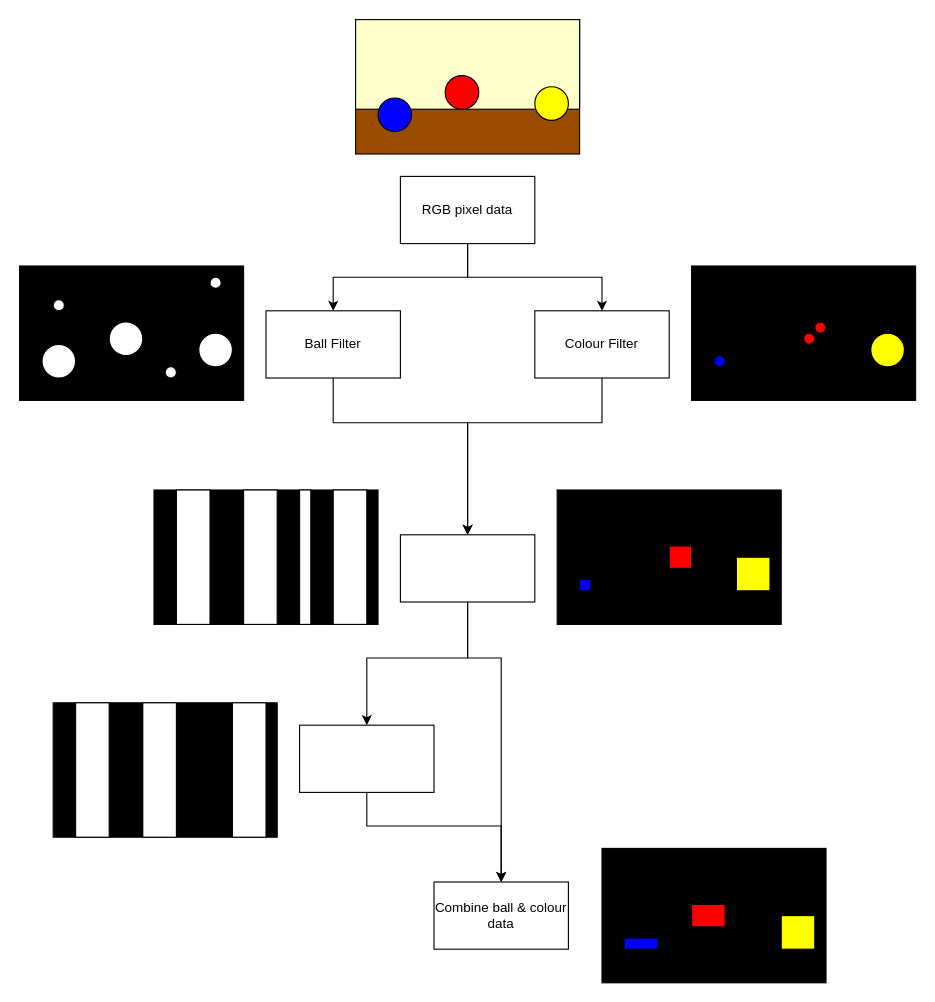
Image size: 935x1002. Some labels were removed from this diagram. Each missing label, with the centre of its shape:
Data available to processor over FIFO Queue: (467,568)
Ignore erroneous results: (366,758)
